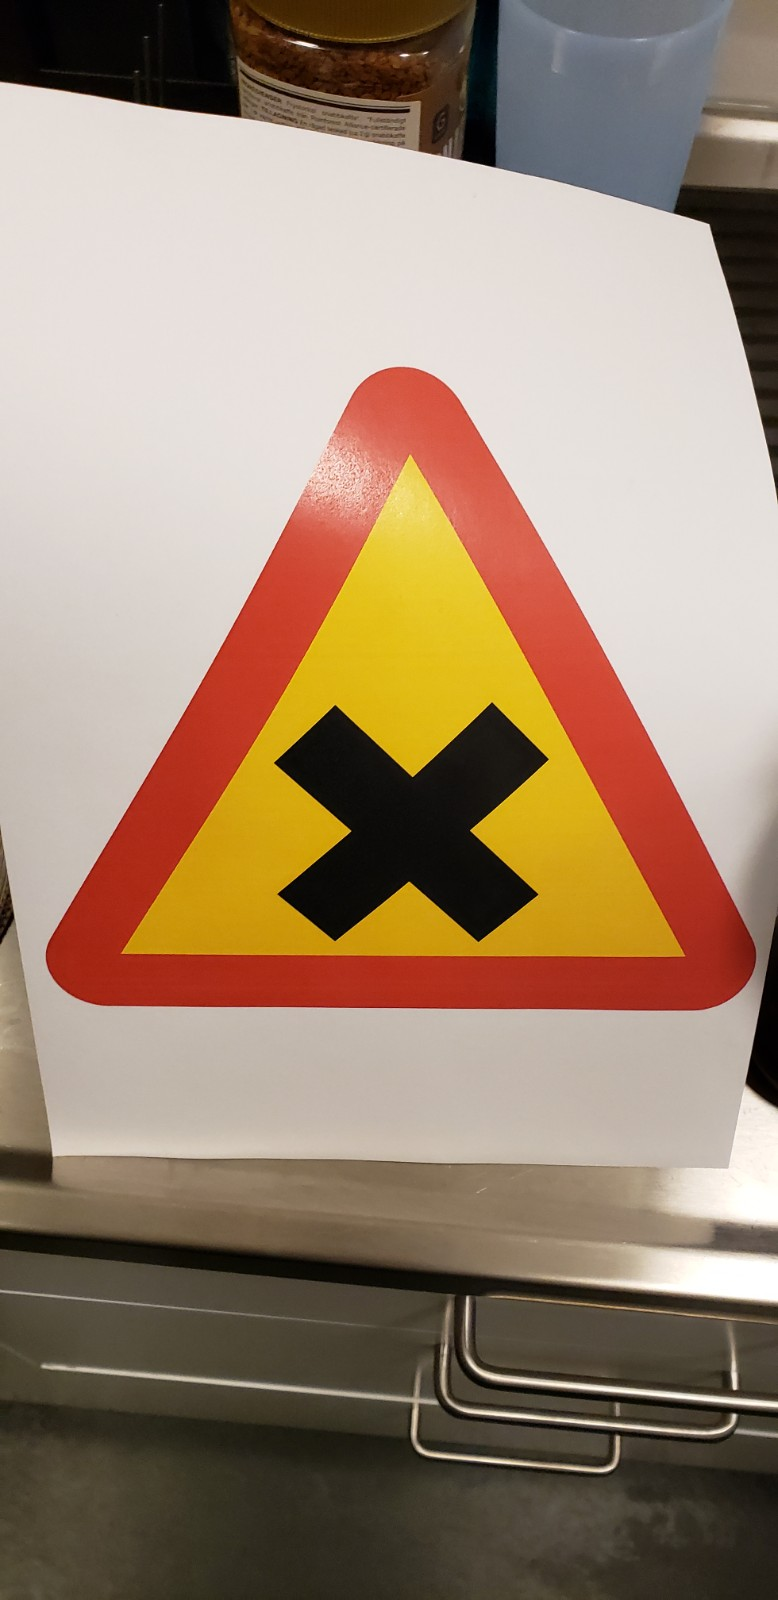junction: (29, 351, 778, 1135)
